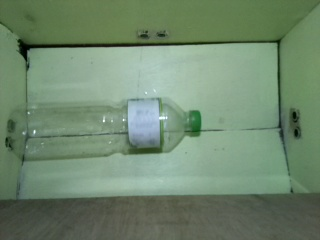bottle: (7, 97, 204, 153)
